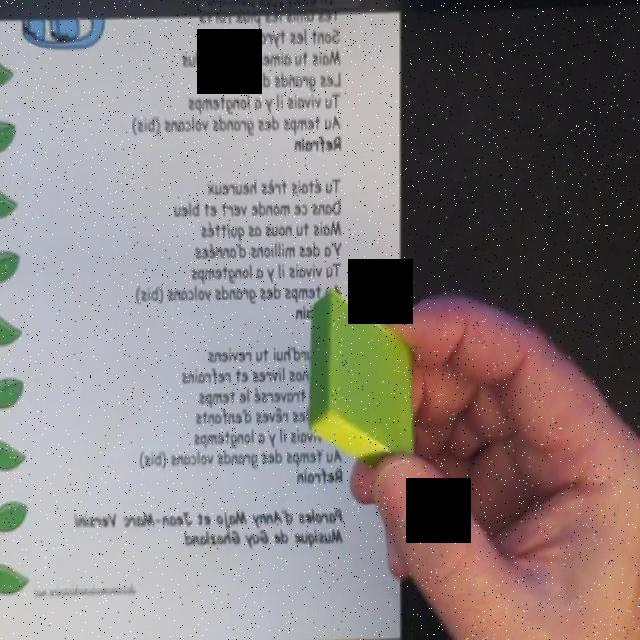square: (308, 292, 415, 470)
